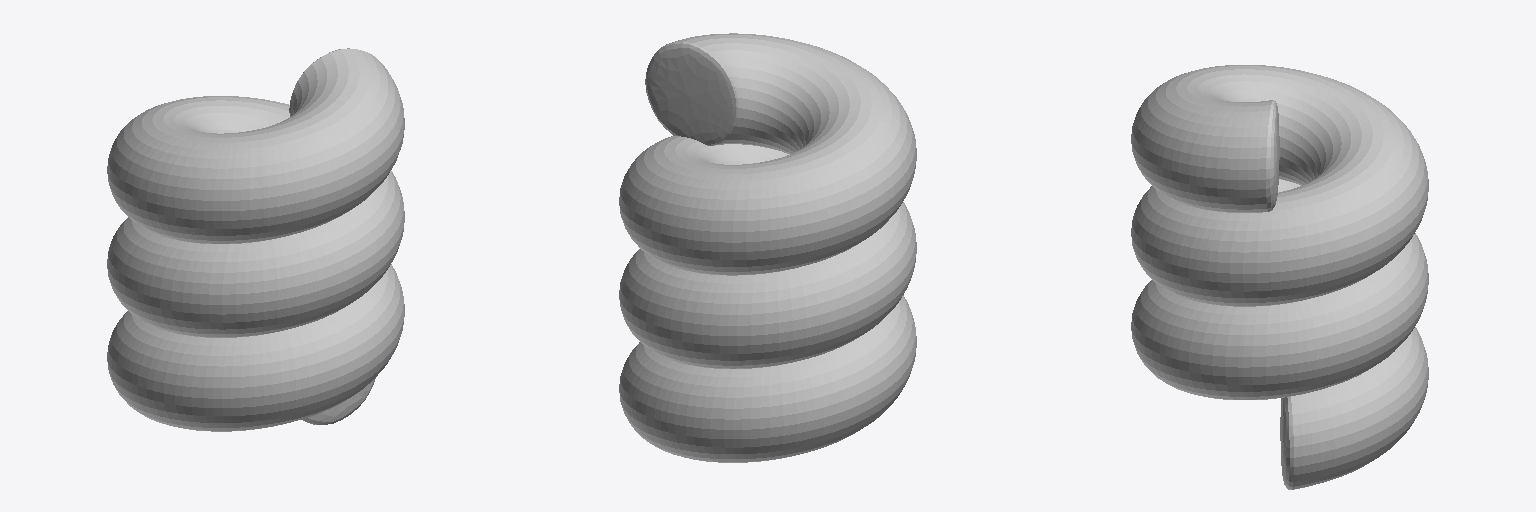
Rendered from helix_55.0.obj.
3 renders of one model, left to right at view 1: azimuth 30°, elevation 25°; view 2: azimuth 150°, elevation 25°; view 3: azimuth 270°, elevation 25°, orthographic.
Parts seen in each view (by area): view 1: helix:pHelix1; view 2: helix:pHelix1; view 3: helix:pHelix1.
Part boxes in pixels (x1,y1,x2,y2): helix:pHelix1: (107, 48, 404, 431); helix:pHelix1: (619, 33, 916, 462); helix:pHelix1: (1131, 65, 1428, 489).
Bounding box in the file's own units: 1.92 × 2.71 × 1.92.